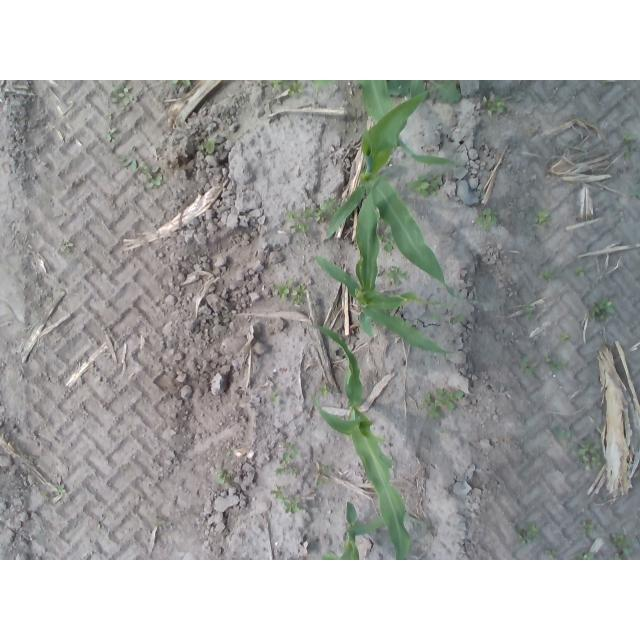Maize: (326, 91, 489, 307), (311, 155, 458, 357), (303, 321, 412, 560), (312, 80, 456, 164), (321, 502, 428, 560)
Weeds: (386, 80, 463, 104), (406, 171, 443, 198), (273, 279, 308, 307), (376, 213, 397, 253), (276, 443, 300, 478), (577, 438, 603, 470), (586, 297, 615, 323), (313, 198, 341, 223), (436, 388, 464, 413), (423, 389, 445, 420), (610, 532, 634, 560), (110, 80, 135, 105), (269, 80, 304, 96), (480, 94, 504, 117), (517, 521, 540, 544), (141, 164, 163, 188), (476, 209, 498, 232), (544, 356, 569, 373), (315, 460, 331, 486), (386, 265, 406, 285), (519, 356, 537, 376), (118, 155, 139, 172), (283, 498, 302, 514), (533, 210, 550, 227), (270, 484, 287, 500), (537, 267, 556, 281), (216, 470, 232, 486), (103, 126, 118, 142), (199, 140, 213, 156), (552, 428, 572, 439), (581, 521, 595, 536), (288, 223, 308, 233), (620, 131, 638, 142), (524, 302, 535, 319), (558, 331, 571, 344), (543, 548, 557, 560), (318, 384, 330, 397), (61, 240, 73, 253), (169, 81, 191, 88), (269, 391, 279, 406), (576, 552, 594, 560), (303, 209, 313, 222), (426, 312, 440, 321), (453, 312, 464, 323), (54, 483, 66, 493), (284, 211, 301, 218), (576, 266, 585, 277), (624, 151, 633, 160), (526, 129, 534, 138)
